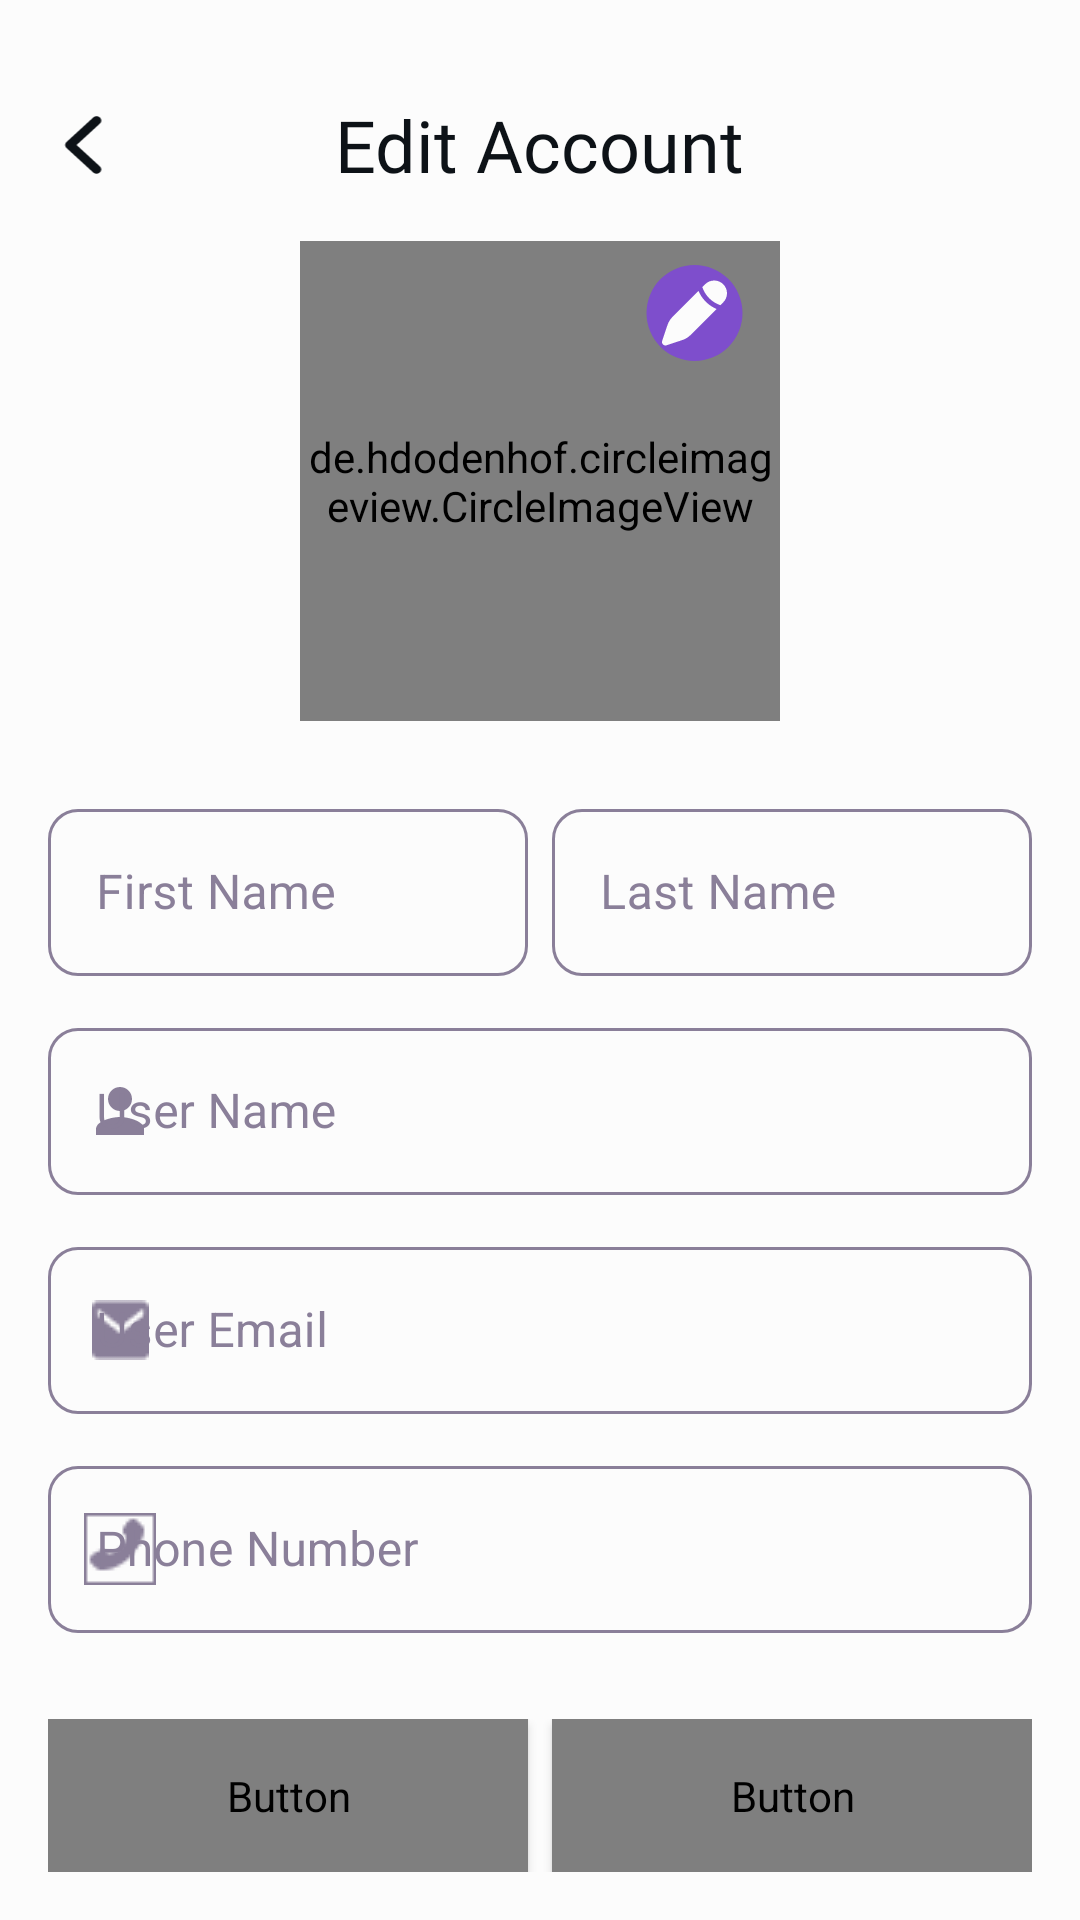

Screen size 1080×1920. Icon name, then its box in pixels as BBox(x1, y1, x2, y2):
back: BBox(64, 116, 102, 174)
change: BBox(646, 265, 743, 361)
